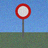sign: (15, 3, 31, 37)
